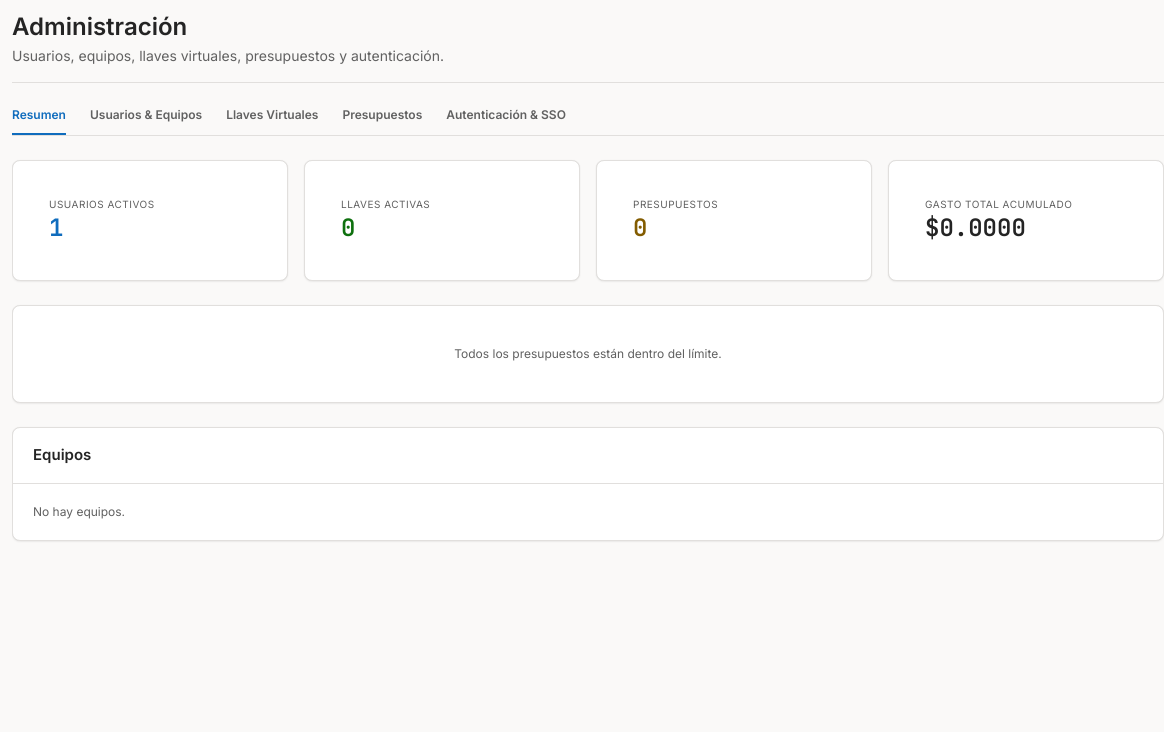
UsersPage — cuentas de servicio › la sección está plegada por default y las cuentas de servicio no están en la tabla principal
The width and height of the screenshot is (1164, 732).
# La tabla vive en la pestaña "Usuarios & Equipos", no en "Resumen" (tab inicial).
Click the button "Usuarios & Equipos".
click(146, 121)  # box [90, 107, 202, 135]
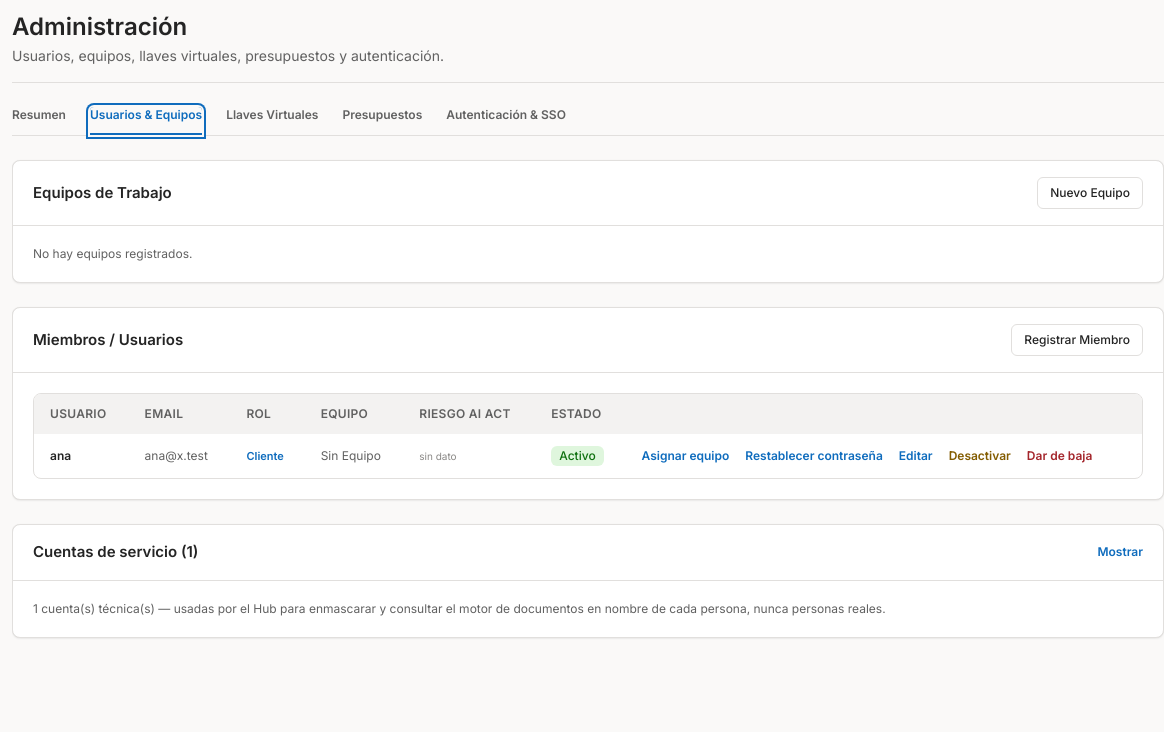
Check: the text "svc.rag-masking" is not shown
Check: the text "ana" is shown, box [34, 434, 129, 478]
Check: the heading "Cuentas de servicio (1)" is shown, box [33, 541, 198, 564]
# Al desplegar, aparece con su propósito — y sigue sin estar en la tabla de personas.
Click the button "Mostrar".
click(1120, 552)  # box [1098, 544, 1143, 560]
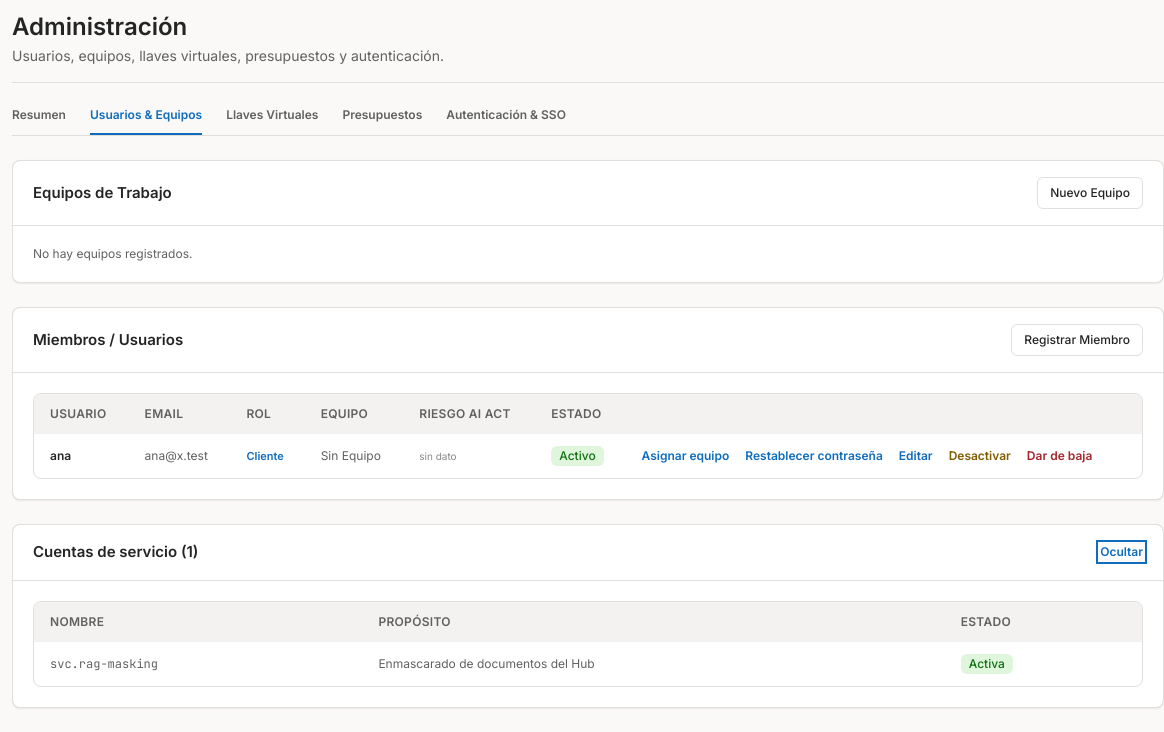
Check: the text "svc.rag-masking" is shown, box [34, 642, 362, 686]
Check: the text "Enmascarado de documentos del Hub" is shown, box [362, 642, 945, 686]
